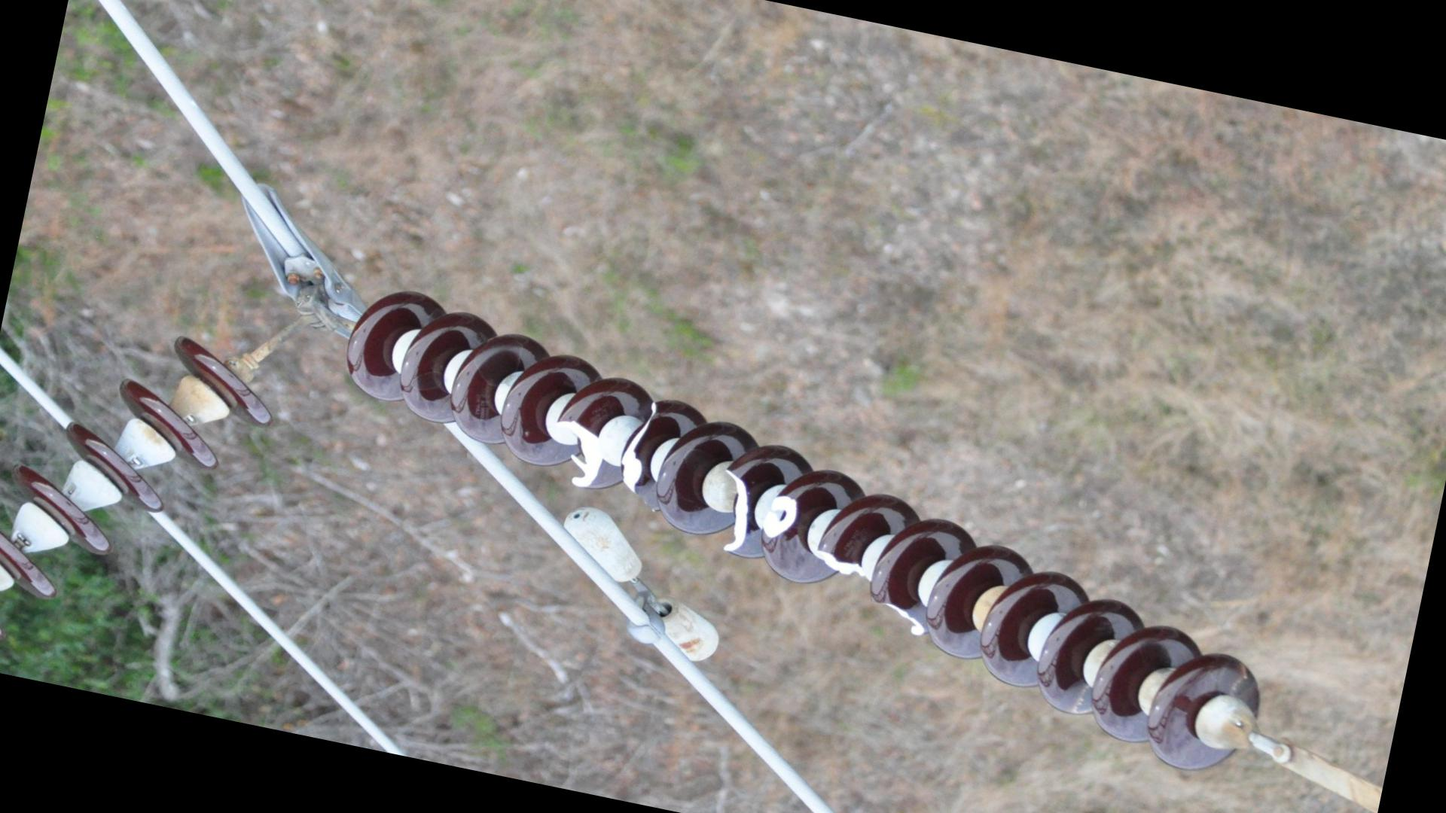damper: (535, 496, 744, 673)
